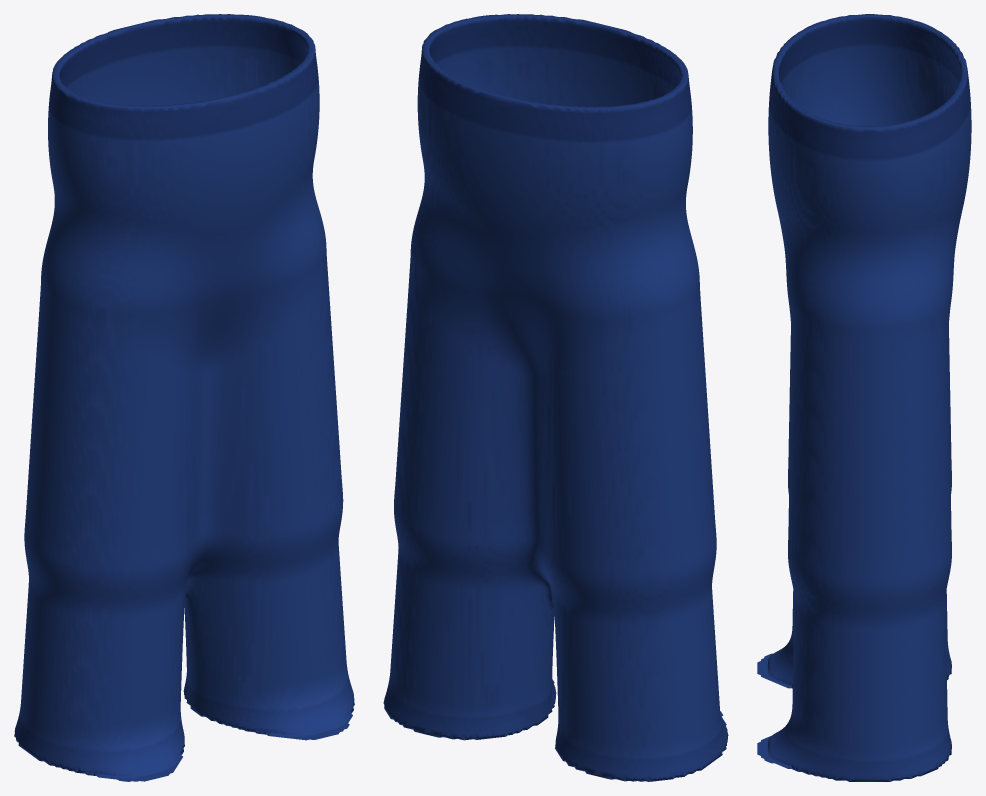
File: blue_pants.glb
3 renders of one model, left to right at view 1: azimuth 30°, elevation 25°; view 2: azimuth 150°, elevation 25°; view 3: azimuth 270°, elevation 25°, orthographic. The views are drawn at different scales.
Visible parts, largest first — view 1: geometry_0; view 2: geometry_0; view 3: geometry_0.
Part boxes in pixels (box(x1,y1,x2,y2)): geometry_0: box(14, 14, 354, 781); geometry_0: box(383, 14, 728, 781); geometry_0: box(757, 14, 971, 781).
Size of the model in its own units: 0.4121 by 0.825 by 0.2512.
